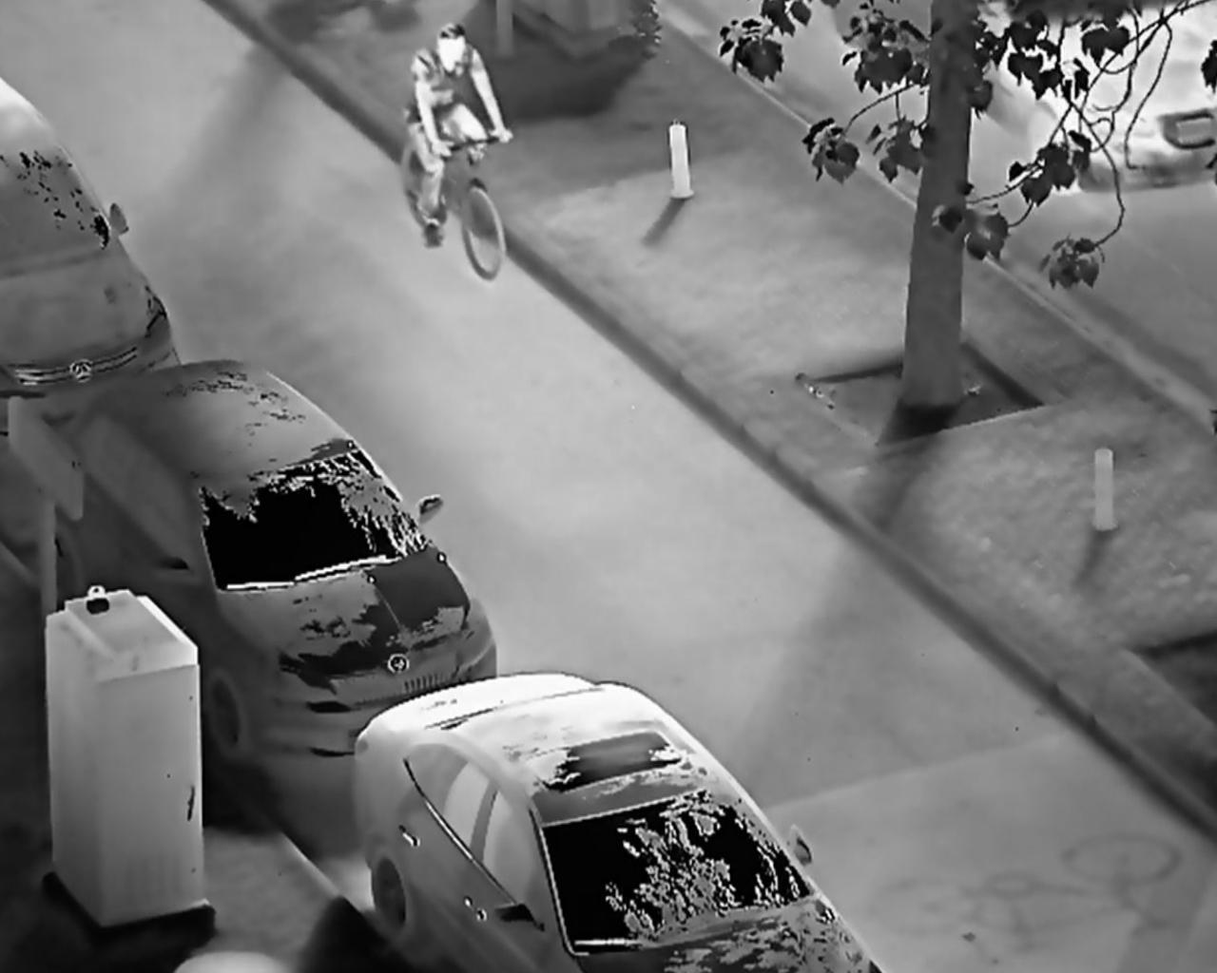person: (400, 20, 518, 252)
